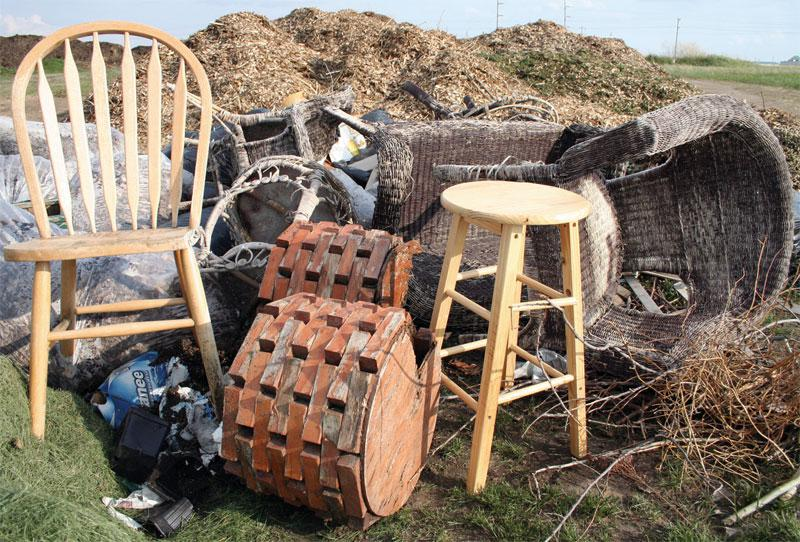wood: (11, 20, 230, 408), (428, 173, 595, 494)
